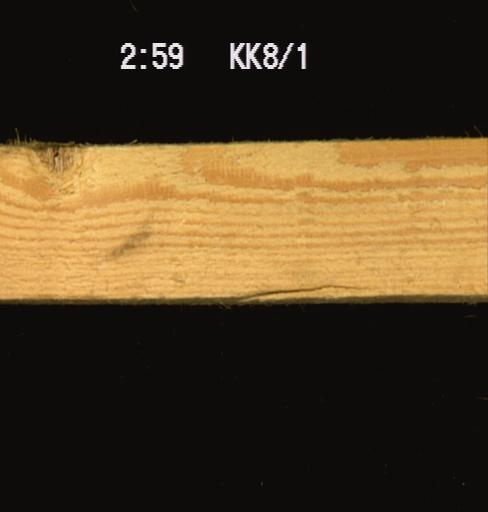edge_knot: (30, 145, 82, 186)
split: (231, 282, 372, 301)
